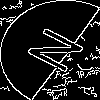N: (25, 25, 96, 80)
